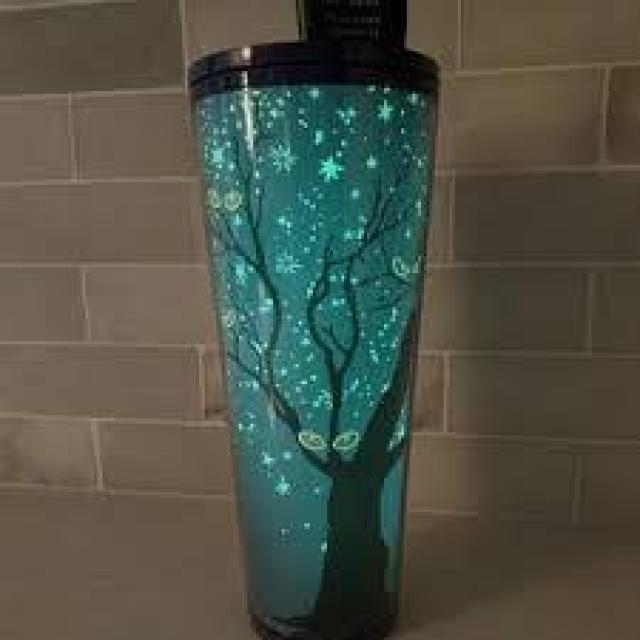bottle: (185, 40, 441, 640)
